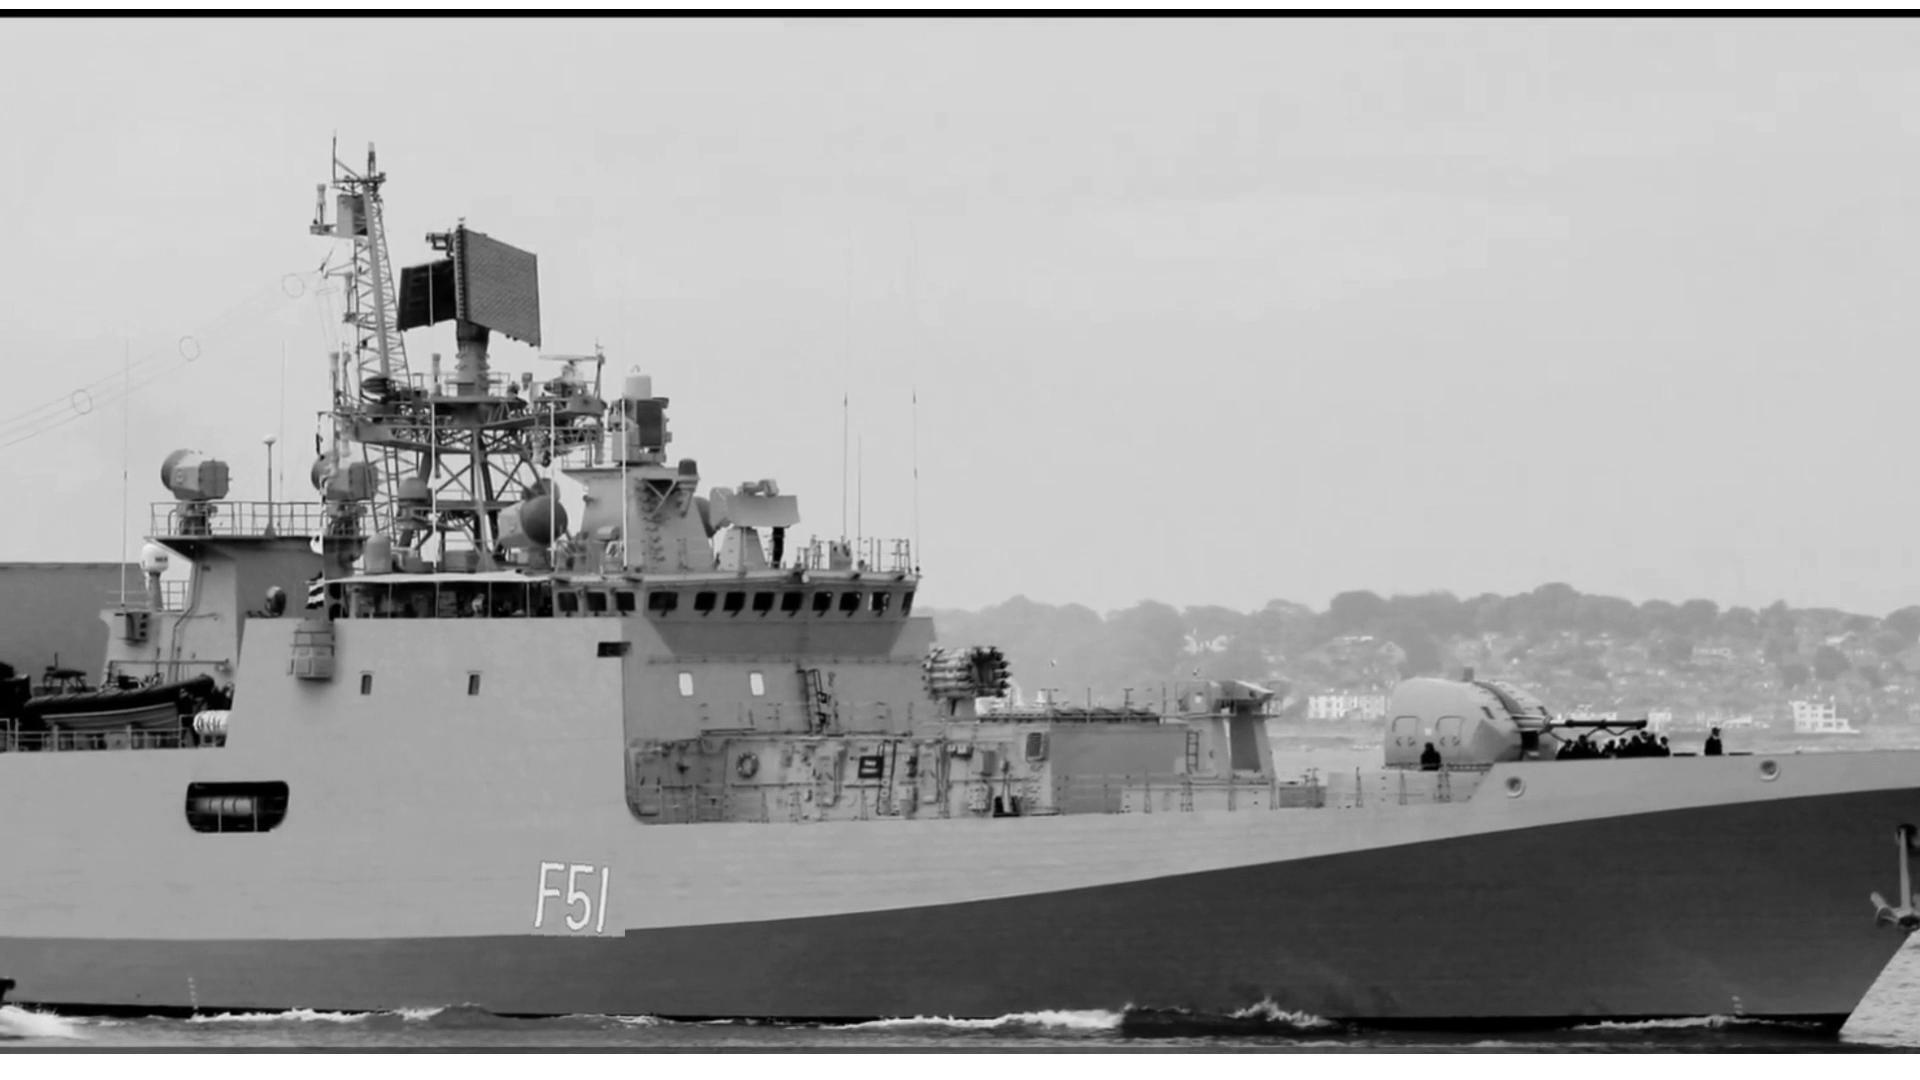OCR: (524, 852, 626, 942)
